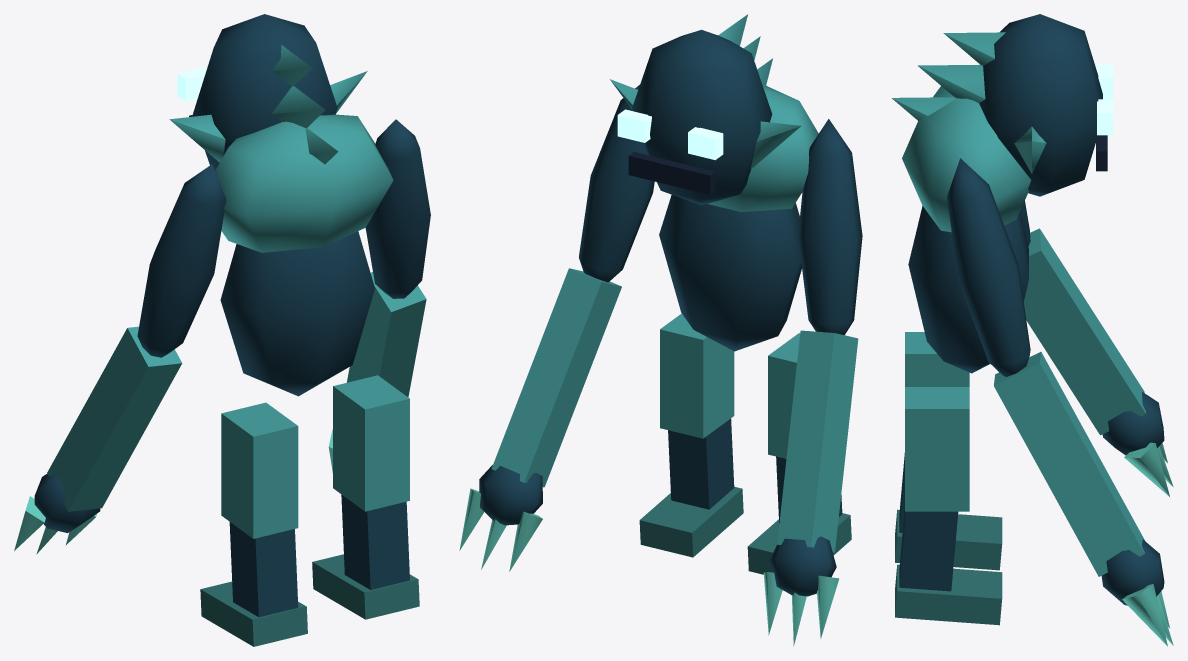
File: undertow.glb
3 renders of one model, left to right at view 1: azimuth 30°, elevation 25°; view 2: azimuth 150°, elevation 25°; view 3: azimuth 270°, elevation 25°, orthographic. The views are drawn at different scales.
Visible parts, largest first — view 1: Merged6, Merged, Merged2, _MeshInstance3D_892, _MeshInstance3D_897, _MeshInstance3D_907, Merged5, Merged3, _MeshInstance3D_902, Merged4; view 2: Merged6, Merged, Merged2, Merged4, _MeshInstance3D_892, Merged5, _MeshInstance3D_907, _MeshInstance3D_902, _MeshInstance3D_897, Merged3; view 3: Merged, Merged6, Merged4, Merged2, _MeshInstance3D_902, Merged5, _MeshInstance3D_907, Merged3, _MeshInstance3D_897.
Part boxes in pixels (<box>): Merged6: <box>215,114,393,396</box>; Merged: <box>169,14,367,170</box>; Merged2: <box>14,326,182,554</box>; _MeshInstance3D_892: <box>137,164,226,357</box>; _MeshInstance3D_897: <box>221,402,298,538</box>; _MeshInstance3D_907: <box>333,375,409,511</box>; Merged5: <box>312,494,419,619</box>; Merged3: <box>200,522,307,646</box>; _MeshInstance3D_902: <box>365,119,430,298</box>; Merged4: <box>328,272,426,472</box>; Merged6: <box>659,85,818,351</box>; Merged: <box>610,14,800,205</box>; Merged2: <box>763,330,858,646</box>; Merged4: <box>459,268,621,571</box>; _MeshInstance3D_892: <box>798,119,862,335</box>; Merged5: <box>639,418,743,557</box>; _MeshInstance3D_907: <box>660,313,734,438</box>; _MeshInstance3D_902: <box>579,85,654,282</box>; _MeshInstance3D_897: <box>768,333,800,458</box>; Merged3: <box>747,456,851,574</box>; Merged: <box>891,14,1113,196</box>; Merged6: <box>902,86,1031,373</box>; Merged4: <box>994,352,1173,646</box>; Merged2: <box>1023,228,1173,496</box>; _MeshInstance3D_902: <box>947,158,1030,376</box>; Merged5: <box>895,508,1002,625</box>; _MeshInstance3D_907: <box>905,387,969,511</box>; Merged3: <box>895,453,1002,570</box>; _MeshInstance3D_897: <box>905,332,969,386</box>.
Size of the model in its own units: 1.36 by 1.94 by 0.869.
